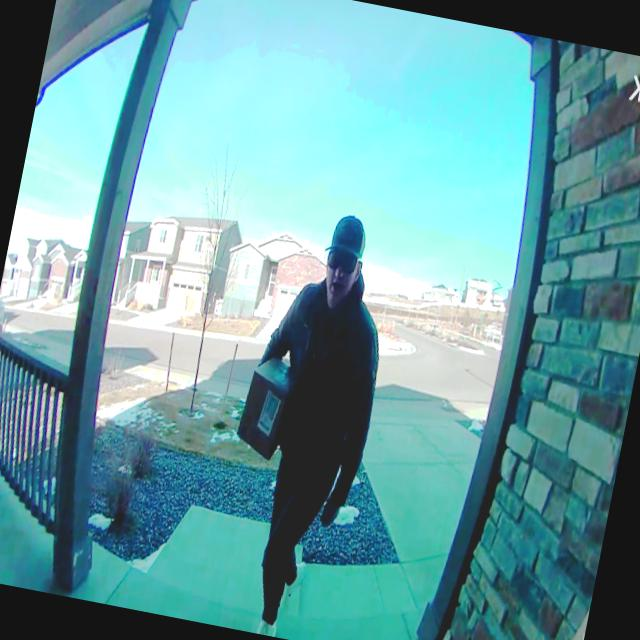Box: (232, 362, 298, 462)
